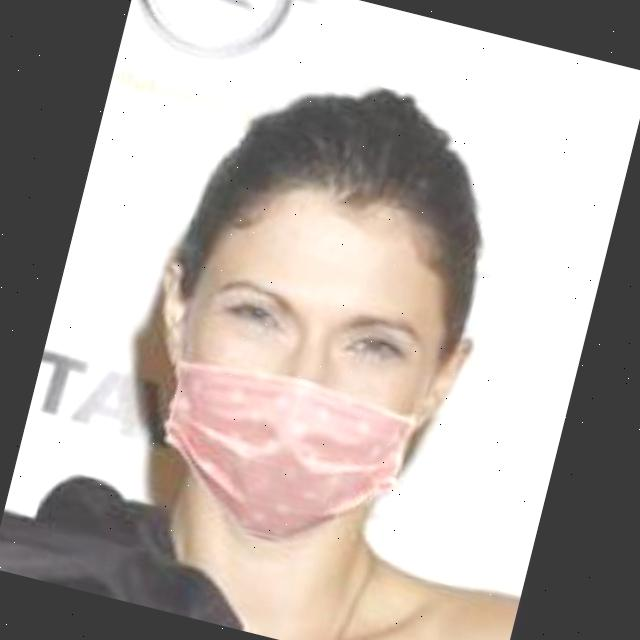suspicion: (105, 84, 522, 537)
